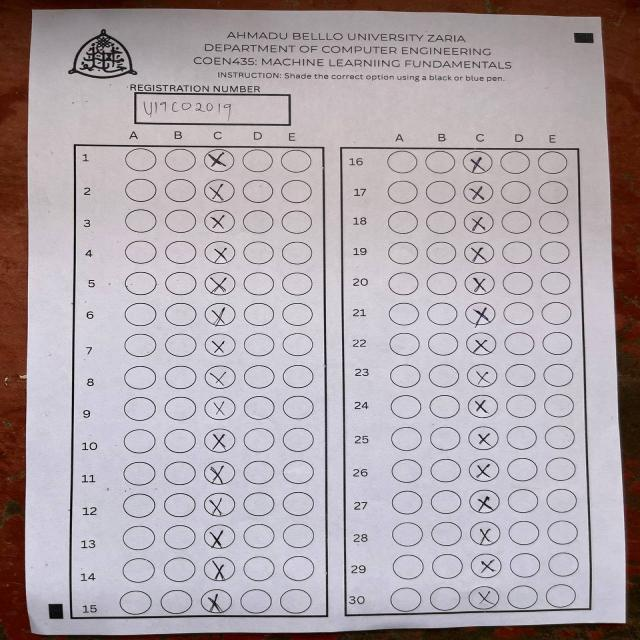bubble: (203, 556, 236, 582), (204, 364, 237, 390), (200, 588, 232, 614), (204, 178, 235, 204), (203, 428, 235, 453), (203, 524, 235, 549), (470, 553, 501, 578), (203, 461, 235, 485), (203, 492, 235, 516), (203, 149, 236, 172), (204, 241, 235, 265), (204, 272, 235, 296), (467, 394, 498, 418), (466, 364, 497, 388), (204, 396, 235, 420), (468, 427, 499, 451), (469, 490, 500, 514), (469, 522, 500, 546), (468, 586, 499, 610), (204, 302, 234, 326), (465, 302, 495, 326), (204, 333, 235, 356), (464, 272, 495, 295), (204, 210, 234, 233), (464, 211, 494, 234), (469, 459, 499, 482), (464, 241, 493, 264), (466, 333, 496, 355), (463, 181, 492, 203), (463, 151, 492, 173)
